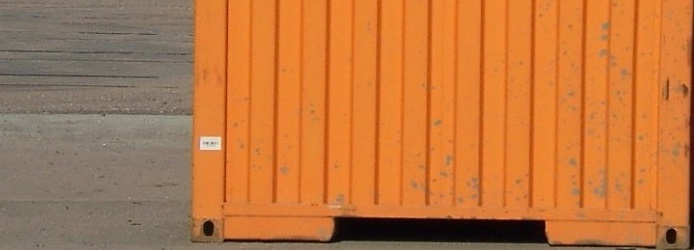container_no_door: (189, 5, 690, 239)
